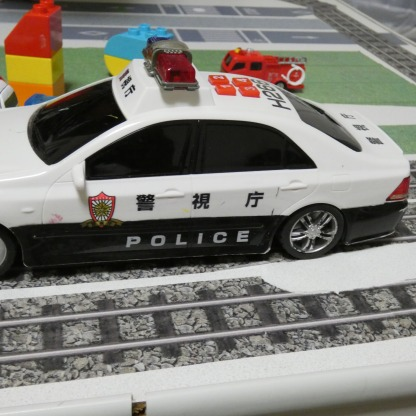car: (0, 70, 411, 263), (214, 48, 317, 90)
